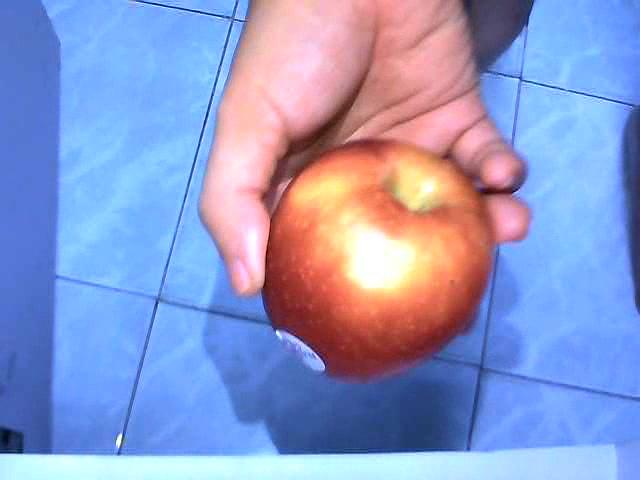apple: (261, 139, 493, 380)
